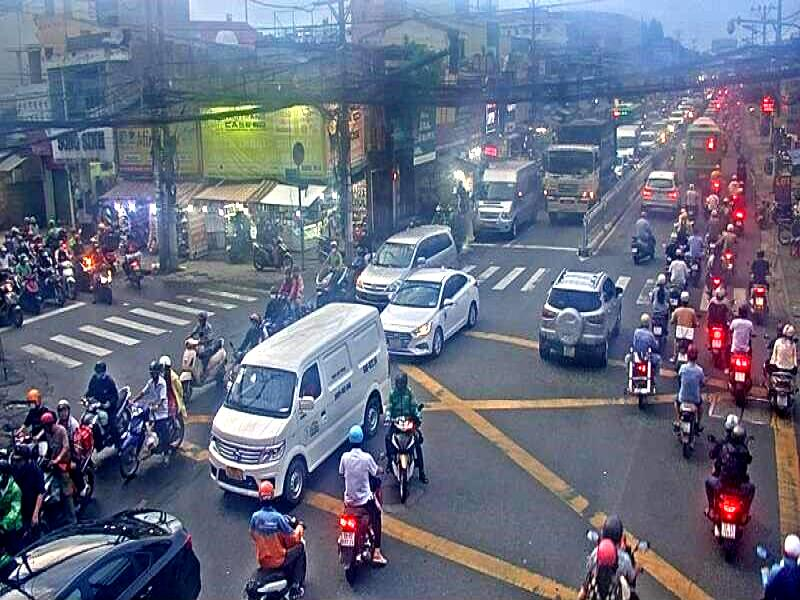car: (210, 302, 390, 508), (0, 504, 198, 600), (357, 216, 462, 325), (384, 267, 483, 357), (542, 113, 620, 220), (541, 274, 624, 371), (474, 158, 540, 241)
